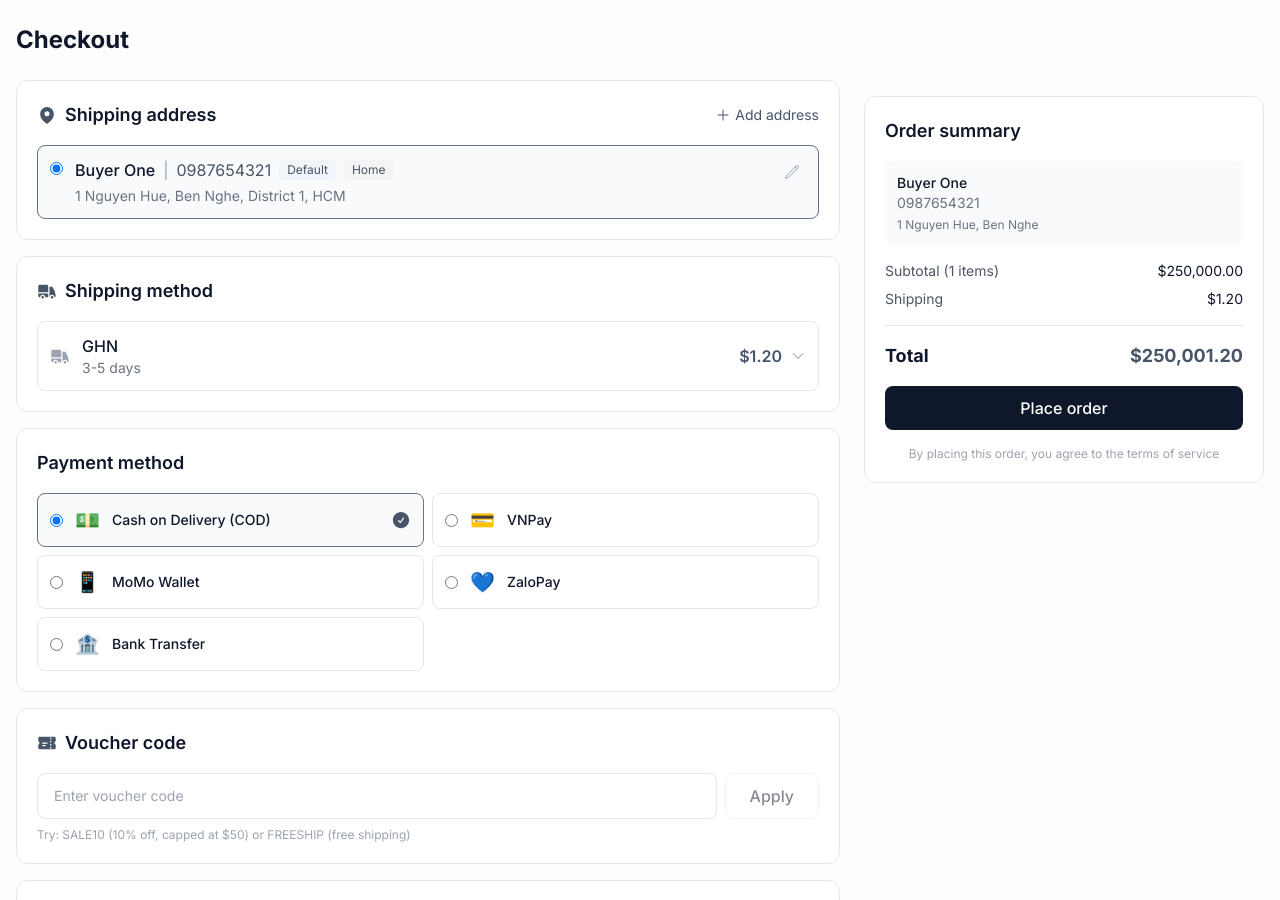
Scenario: CheckoutPage › falls back to built-in shipping methods when the shipping endpoint fails
Expected: the text "GHN" is shown, [82, 336, 118, 356]
Click the button "GHN 3-5 days $1.20": (100, 346) [37, 321, 819, 391]
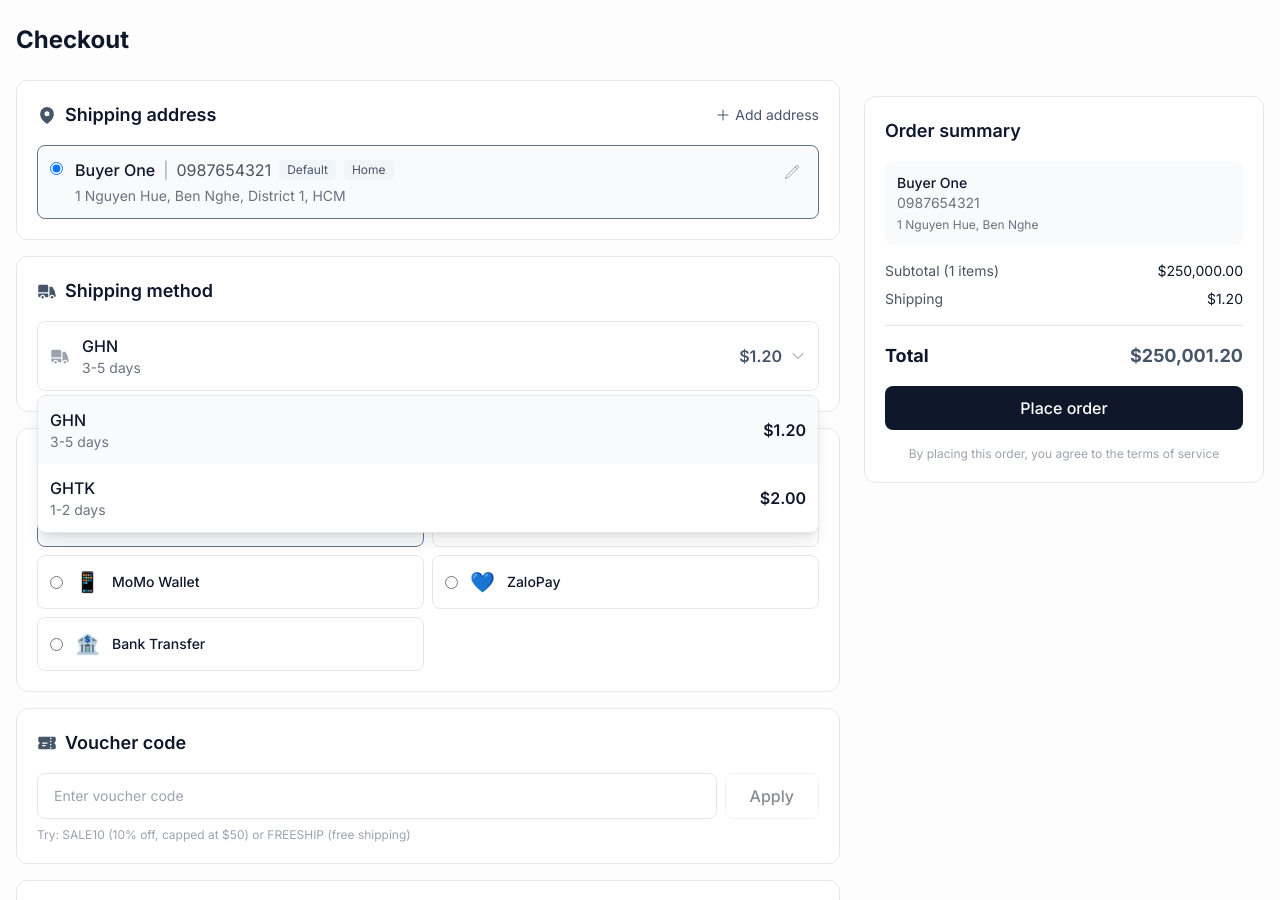
Expected: the text "GHTK" is shown, [50, 478, 95, 498]
